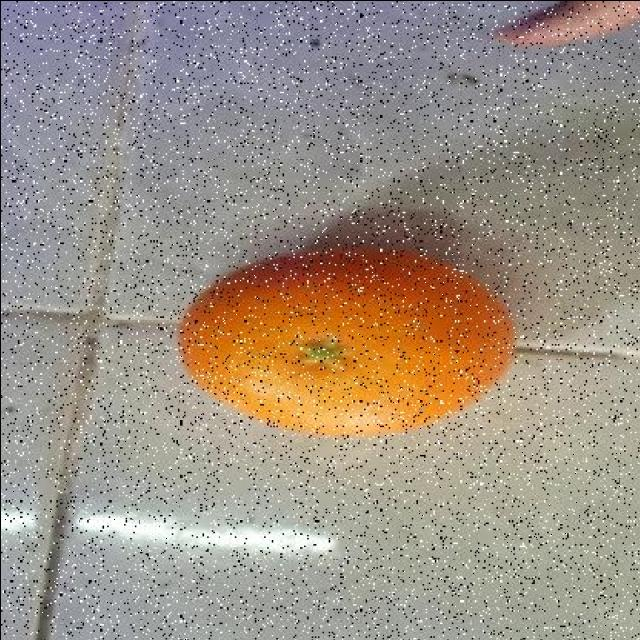Orange: (177, 243, 517, 440)
